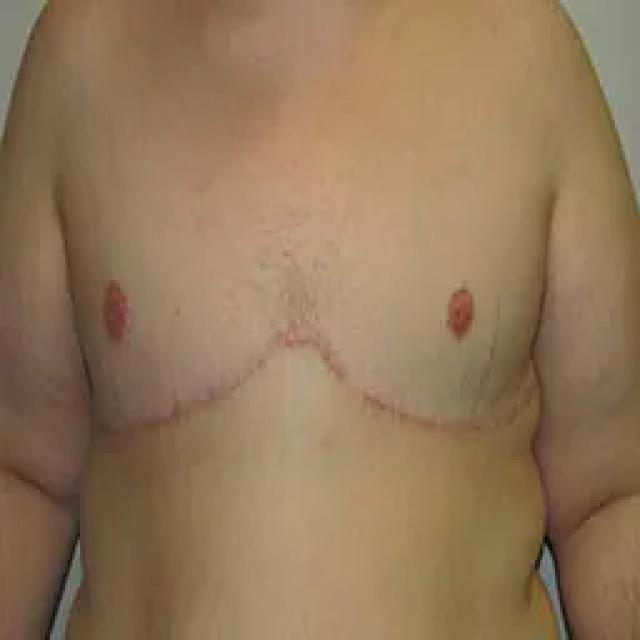Seno herido: (58, 169, 308, 460), (314, 172, 564, 458)
